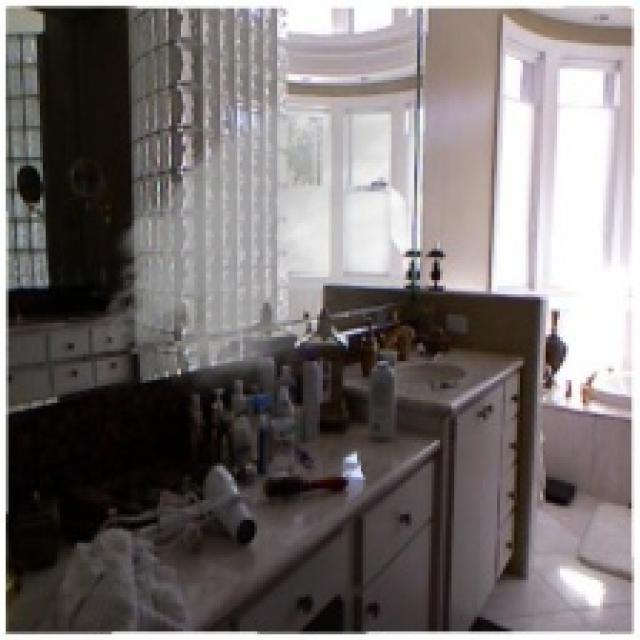smoke: (91, 57, 486, 412)
